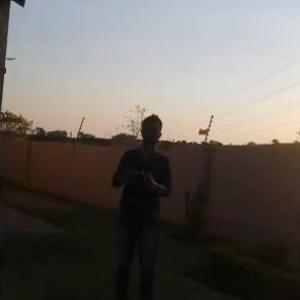follow: (105, 108, 180, 299)
